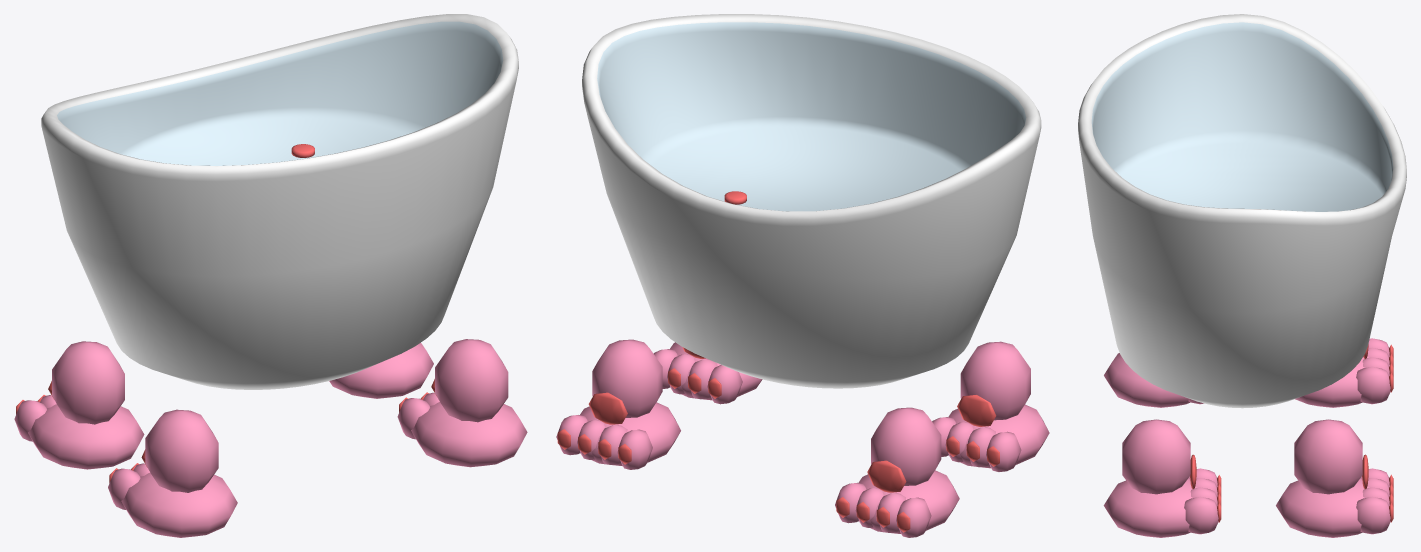
The model's file is tub_claw.glb.
The picture shows the model from 3 angles, left to right: view 1: azimuth 30°, elevation 25°; view 2: azimuth 150°, elevation 25°; view 3: azimuth 270°, elevation 25°; orthographic projection. The views are drawn at different scales.
Visible parts, largest first — view 1: Tub, Stand; view 2: Tub, Stand; view 3: Tub, Stand.
Part boxes in pixels (bbox=[...]): Tub: bbox=[41, 14, 518, 389]; Stand: bbox=[14, 339, 527, 537]; Tub: bbox=[582, 14, 1041, 388]; Stand: bbox=[556, 339, 1049, 537]; Tub: bbox=[1078, 14, 1406, 408]; Stand: bbox=[1103, 338, 1393, 537].
Bounding box in the file's own units: 1.56 × 1.29 × 1.09.
4 materials, 4 textured.
